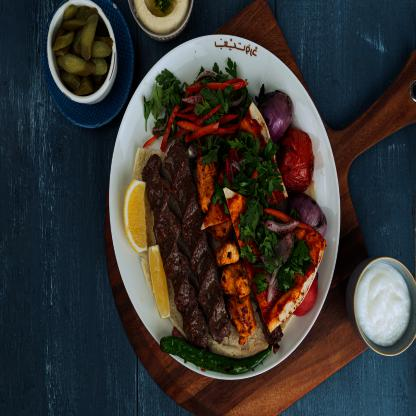Carne: (139, 157, 169, 213), (150, 204, 184, 250), (190, 264, 224, 309), (186, 233, 218, 280), (164, 159, 194, 208), (179, 305, 210, 348), (175, 201, 204, 244), (204, 298, 234, 338), (158, 144, 190, 179), (162, 246, 188, 288), (170, 285, 196, 311)
